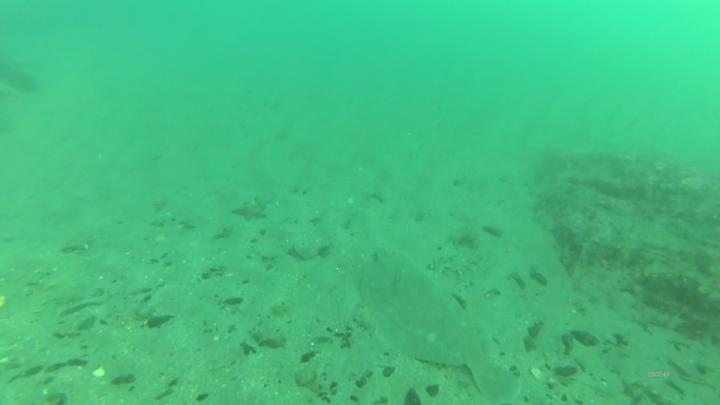starfish: (235, 203, 268, 223)
